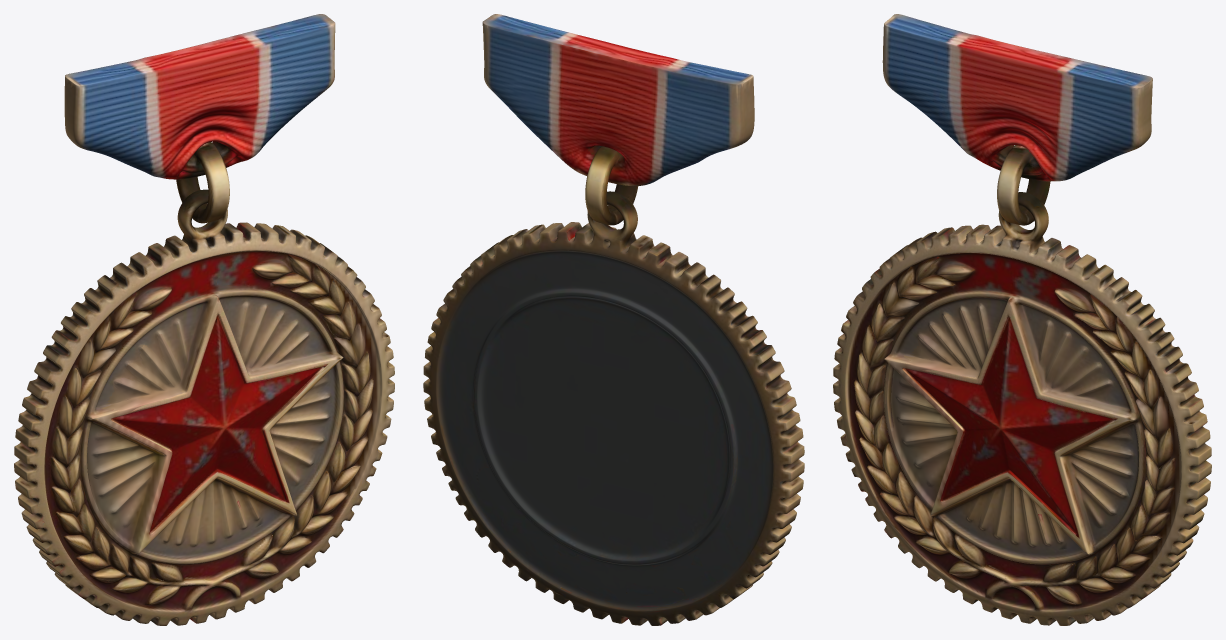
Rendered from menu_medal.glb.
The picture shows the model from 3 angles, left to right: view 1: azimuth 30°, elevation 25°; view 2: azimuth 150°, elevation 25°; view 3: azimuth 330°, elevation 25°; orthographic projection.
Visible parts, largest first — view 1: node_0; view 2: node_0; view 3: node_0.
Part boxes in pixels (x1,y1,x2,y2): node_0: (14, 14, 394, 625); node_0: (423, 14, 804, 625); node_0: (833, 14, 1211, 625).
Size of the model in its own units: 0.7297 by 1.08 by 0.1461.
1 material, 1 textured.
